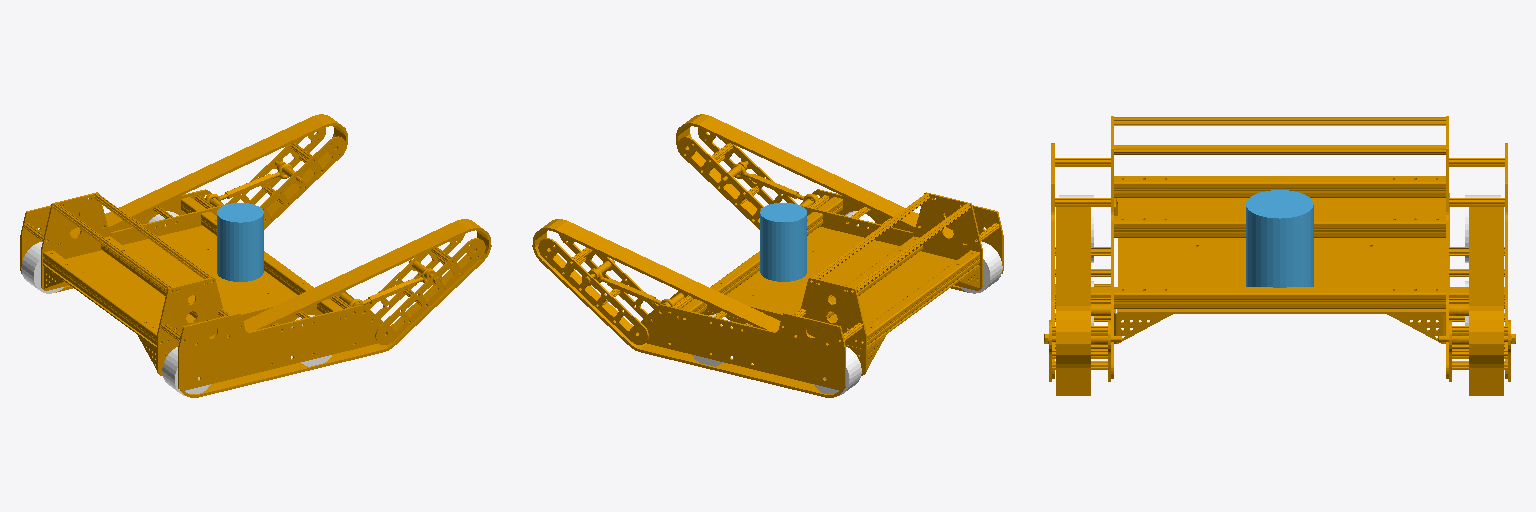
The robot description file, URDF, robot "rhino":
<?xml version="1.0"?>
<robot name="rhino">
  <gazebo>
    <plugin filename="libgazebo_ros_diff_drive.so" name="differential_drive_controller">
      <alwaysOn>true</alwaysOn>
      <updateRate>20</updateRate>
      <leftJoint>base_to_right_front_wheel</leftJoint>
      <rightJoint>base_to_left_front_wheel</rightJoint>
      <wheelSeparation>0.5207</wheelSeparation>
      <wheelDiameter>0.0762</wheelDiameter>
      <torque>0.1</torque>
      <commandTopic>cmd_vel</commandTopic>
      <odometryTopic>odom</odometryTopic>
      <odometryFrame>odom</odometryFrame>
      <robotBaseFrame>base_link</robotBaseFrame>
      <legacyMode>false</legacyMode>
    </plugin>
    <plugin filename="libgazebo_ros_diff_drive.so" name="differential_drive_controller">
      <alwaysOn>true</alwaysOn>
      <updateRate>20</updateRate>
      <leftJoint>base_to_right_rear_wheel</leftJoint>
      <rightJoint>base_to_left_rear_wheel</rightJoint>
      <wheelSeparation>0.5207</wheelSeparation>
      <wheelDiameter>0.0762</wheelDiameter>
      <torque>0.1</torque>
      <commandTopic>cmd_vel</commandTopic>
      <odometryTopic>odom</odometryTopic>
      <odometryFrame>odom</odometryFrame>
      <robotBaseFrame>base_link</robotBaseFrame>
      <legacyMode>false</legacyMode>
    </plugin>
  </gazebo>

  <material name="blue">
    <color rgba="0 0 0.8 1"/>
  </material>
  <material name="black">
    <color rgba="0 0 0 1"/>
  </material>
  <material name="white">
    <color rgba="1 1 1 1"/>
  </material>

  <link name="base_link">
    <inertial>
      <origin
        xyz="-0.0397613304580986 -0.00187447663786819 -0.0007976966428697"
        rpy="0 0 0" />
      <!-- <mass value="3.82068922610956" /> -->
      <mass value="10"/>
      <inertia
        ixx="0.280033582927332"
        ixy="-0.0109458890651764"
        ixz="-0.000139336718483203"
        iyy="0.441269583836676"
        iyz="9.2785508828341E-05"
        izz="0.185559829444659" />
    </inertial>
    <visual>
      <origin xyz="0 0 0.1" rpy="0 0 0"/>
      <geometry>
        <!-- <box size="0.3 0.3 0.1"/> -->
        <mesh filename="package://robot-description-rhino/meshes/base_link_new.STL"/>
      </geometry>
    </visual>
    <collision>
      <origin xyz="0 0 0.1" rpy="0 0 0"/>
<!-- 
      <geometry>
        <mesh
          filename="package://robot-description-rhino/meshes/base_link_new.STL" />
      </geometry>
      -->
      <geometry>
        <box size="0.8 0.7 0.2"/>
      </geometry> 
    </collision>
  </link>

  <!-- Torso Waist -->
  <link name="torso_waist">
    <visual>
      <origin rpy="0 0 0" xyz="0 0 0"/>
      <geometry>
        <cylinder length="0.1397" radius="0.05"/>
      </geometry>
    </visual>
    <collision>
      <origin rpy="0 0 0" xyz="0 0 0"/>
      <geometry>
        <cylinder length="0.5" radius="0.1"/>
      </geometry>
    </collision>
    <inertial>
      <mass value="5"/>
      <inertia ixx="0.4" ixy="0.0" ixz="0.0" iyy="0.4" iyz="0.0" izz="0.2"/>
    </inertial>
  </link>

  <joint name="base_to_torso_waist" type="revolute">
    <axis xyz="0 0 1"/>
    <origin xyz="0 0 0.16"/>
    <limit effort="1000.0" lower="-0.5" upper="0.5" velocity="0.5"/>
    <!-- <limit effort="100" velocity="100" /> -->
    <parent link="base_link"/>
    <child link="torso_waist"/>
  </joint>

  <!-- right_front_wheel with MESH-->
    <!--
  <link name="right_front_wheel">
    <inertial>
      <origin
        xyz="0.0403820397262787 -1.77100373879857E-08 -8.48161568756112E-09"
        rpy="0 0 0" />
      <mass value="0.168011919570301" />
      <inertia
        ixx="0.000126799359132551"
        ixy="4.2180094748375E-11"
        ixz="-9.55801614785873E-11"
        iyy="0.000112956774131014"
        iyz="2.87100617773173E-09"
        izz="0.000112951688012628" />
    </inertial>

    <visual>

      <geometry>
        <mesh filename="package://robot-description-rhino/meshes/right_front_wheel_link_new.STL"/>
      </geometry>
       <origin rpy="1.57075 0 0" xyz="0.064 0.30 0.060"/>
      <collision>
        <origin rpy="1.57075 0 0" xyz="0.064 0.30 0.060"/>
        <geometry>
          <mesh filename="package://robot-description-rhino/meshes/right_front_wheel_link_new.STL" />
        </geometry>
        <surface>
          <friction>
            <ode>
              <mu1>100.0</mu1>
              <mu2>50.0</mu2>
            </ode>
          </friction>
        </surface>
      </collision> 
    </visual>
  </link>
    -->

  <!-- right_front_wheel -->
  <link name="right_front_wheel">
    <inertial>
      <origin rpy="-1.57075 0 0" xyz="0 0 0"/>
      <mass value="0.168011919570301" />
      <inertia
        ixx="0.000126799359132551"
        ixy="4.2180094748375E-11"
        ixz="-9.55801614785873E-11"
        iyy="0.000112956774131014"
        iyz="2.87100617773173E-09"
        izz="0.000112951688012628" />
    </inertial>
    <visual>
      <origin rpy="-1.57075 0 0" xyz="0 0 0"/>
      <geometry>
        <cylinder length="0.05207" radius="0.05" />
      </geometry>
      <material name="white"/>
    </visual>
    <collision>
      <!-- <origin xyz="0 0 0" rpy="0 0 0" /> -->
      <origin rpy="-1.57075 0 0" xyz="0 0 0"/>
      <geometry>
        <cylinder length="0.05207" radius="0.05" />
      </geometry>
    </collision>
  </link>

  <joint name="base_to_right_front_wheel" type="continuous">
    <parent link="base_link"/>
    <child link="right_front_wheel"/>
    <origin xyz="0 -0.30 0.05"/>
    <axis xyz="0 1 0"/>
    <!-- <limit effort="100" velocity="100" /> -->
  </joint>


  <!-- 
    right rear wheel 
  -->
  <link name="right_rear_wheel">
    <inertial>
      <origin rpy="-1.57075 0 0" xyz="0 0 0"/>
      <mass value="0.172189485487845" />
      <inertia
        ixx="0.000122934028959951"
        ixy="-9.69198780790459E-11"
        ixz="8.40716510084883E-11"
        iyy="0.000135229835441607"
        iyz="-3.35713405092348E-10"
        izz="0.000122926656061839" />
    </inertial>
    <visual>
      <geometry>
        <cylinder length="0.05207" radius="0.05" />
      </geometry>
      <origin rpy="-1.57075 0 0" xyz="0 0 0"/>
      <material name="white"/>
    </visual>
    <collision>
      <origin rpy="-1.57075 0 0" xyz="0 0 0"/>
      <geometry>
        <cylinder length="0.05207" radius="0.05" />
      </geometry>
    </collision>
  </link>
  <joint name="base_to_right_rear_wheel" type="continuous">
    <parent link="base_link"/>
    <child link="right_rear_wheel"/>
    <origin xyz="-0.30 -0.30 0.05"/>
    <axis xyz="0 1 0"/>
    <!-- <limit effort="100" velocity="100" /> -->
  </joint>

  <!-- left front_wheel with MESH-->
  <!--
  <link name="left_front_wheel">
    <inertial>
      <origin
        xyz="0.040382041454872 1.76145017946605E-08 -8.69202679276704E-09"
        rpy="0 0 0" />
      <mass value="0.168011919570301" />
      <inertia
        ixx="0.000126799359132551"
        ixy="5.10665558282939E-11"
        ixz="9.11932344797647E-11"
        iyy="0.000112956782528061"
        iyz="-2.875306538123E-09"
        izz="0.000112951677864508" />
    </inertial>
    <visual>
    <geometry>
        <mesh filename="package://robot-description-rhino/meshes/left_front_wheel_link_new.STL"/>
      </geometry>
      <origin rpy="1.57075 0 0" xyz="0.064 -0.30 0.06"/> 
    <collision>
      <origin rpy="1.57075 0 0" xyz="0.064 -0.30 0.06"/>
      <geometry>
        <mesh filename="package://robot-description-rhino/meshes/left_front_wheel_link_new.STL" />
      </geometry>
      <surface>
        <friction>
          <ode>
            <mu1>100.0</mu1>
            <mu2>50.0</mu2>
          </ode>
        </friction>
      </surface>
    </collision> 
    </visual>
  </link>
    -->

  <link name="left_front_wheel">
    <inertial>
      <origin rpy="-1.57075 0 0" xyz="0 0 0"/>
      <mass value="0.168011919570301" />
      <inertia
        ixx="0.000126799359132551"
        ixy="5.10665558282939E-11"
        ixz="9.11932344797647E-11"
        iyy="0.000112956782528061"
        iyz="-2.875306538123E-09"
        izz="0.000112951677864508" />
    </inertial>
    <visual>
      <geometry>
          <cylinder length="0.05207" radius="0.05" />
      </geometry>
      <origin rpy="-1.57075 0 0" xyz="0 0 0"/>
      <material name="white"/>
    </visual>
    <collision>
      <!-- <origin xyz="0 0 0" rpy="0 0 0" /> -->
      <origin rpy="-1.57075 0 0" xyz="0 0 0"/>
      <geometry>
        <cylinder length="0.05207" radius="0.05" />
      </geometry>
    </collision>
  </link>

  <joint name="base_to_left_front_wheel" type="continuous">
    <parent link="base_link"/>
    <child link="left_front_wheel"/>
    <origin xyz="0 0.30 0.05"/>
    <axis xyz="0 1 0"/>
    <!-- <limit effort="100" velocity="100" /> -->
  </joint>


  <!-- Left Rear Wheel -->
  <link name="left_rear_wheel">
    <inertial>
      <origin rpy="-1.57075 0 0" xyz="0 0 0"/>
      <mass value="0.172189485243552" />
      <inertia
        ixx="0.000122934030023779"
        ixy="4.12976146803433E-10"
        ixz="-8.00350733438054E-10"
        iyy="0.000135229835425849"
        iyz="8.73155133668469E-12"
        izz="0.00012292611083972" />
    </inertial>
    <visual>
      <geometry>
          <cylinder length="0.05207" radius="0.05" />
      </geometry>
      <origin rpy="-1.57075 0 0" xyz="0 0 0"/>
      <material name="white"/>
    </visual>
    <collision>
      <!-- <origin xyz="0 0 0" rpy="0 0 0" /> -->
      <origin rpy="-1.57075 0 0" xyz="0 0 0"/>
      <geometry>
        <cylinder length="0.05207" radius="0.05"/>
      </geometry>
    </collision>
  </link>
  <joint name="base_to_left_rear_wheel" type="continuous">
    <parent link="base_link"/>
    <child link="left_rear_wheel"/>
    <origin xyz="-0.30 0.30 0.05"/>
    <axis xyz="0 1 0"/>
    <!-- <limit effort="100" velocity="100" /> -->
  </joint>

</robot>

--- Facts derived from the render (not from the file) ---
Views: 3 orthographic renders of the robot side by side, from view 1: azimuth 30°, elevation 25°; view 2: azimuth 150°, elevation 25°; view 3: azimuth 270°, elevation 25°.
Robot: rhino — 6 links, 5 joints (1 revolute, 4 continuous); root link base_link; default pose: all joints at 0.
Links seen in each view (by area): view 1: base_link, torso_waist, left_rear_wheel, right_rear_wheel; view 2: base_link, torso_waist, right_rear_wheel, left_rear_wheel; view 3: base_link, torso_waist.
Link boxes in pixels (bbox=[...]): base_link: bbox=[20, 114, 491, 397]; torso_waist: bbox=[217, 203, 263, 281]; left_rear_wheel: bbox=[21, 242, 63, 293]; right_rear_wheel: bbox=[162, 347, 210, 395]; base_link: bbox=[532, 114, 1003, 397]; torso_waist: bbox=[760, 203, 806, 281]; right_rear_wheel: bbox=[960, 241, 1002, 293]; left_rear_wheel: bbox=[814, 347, 861, 395]; base_link: bbox=[1044, 116, 1515, 395]; torso_waist: bbox=[1246, 190, 1313, 287].
Size in the robot's own frame: 0.7767 by 0.695 by 0.2401 metres.
Meshes: 1 distinct files referenced, 1 mesh visuals loaded (1 binary STL).